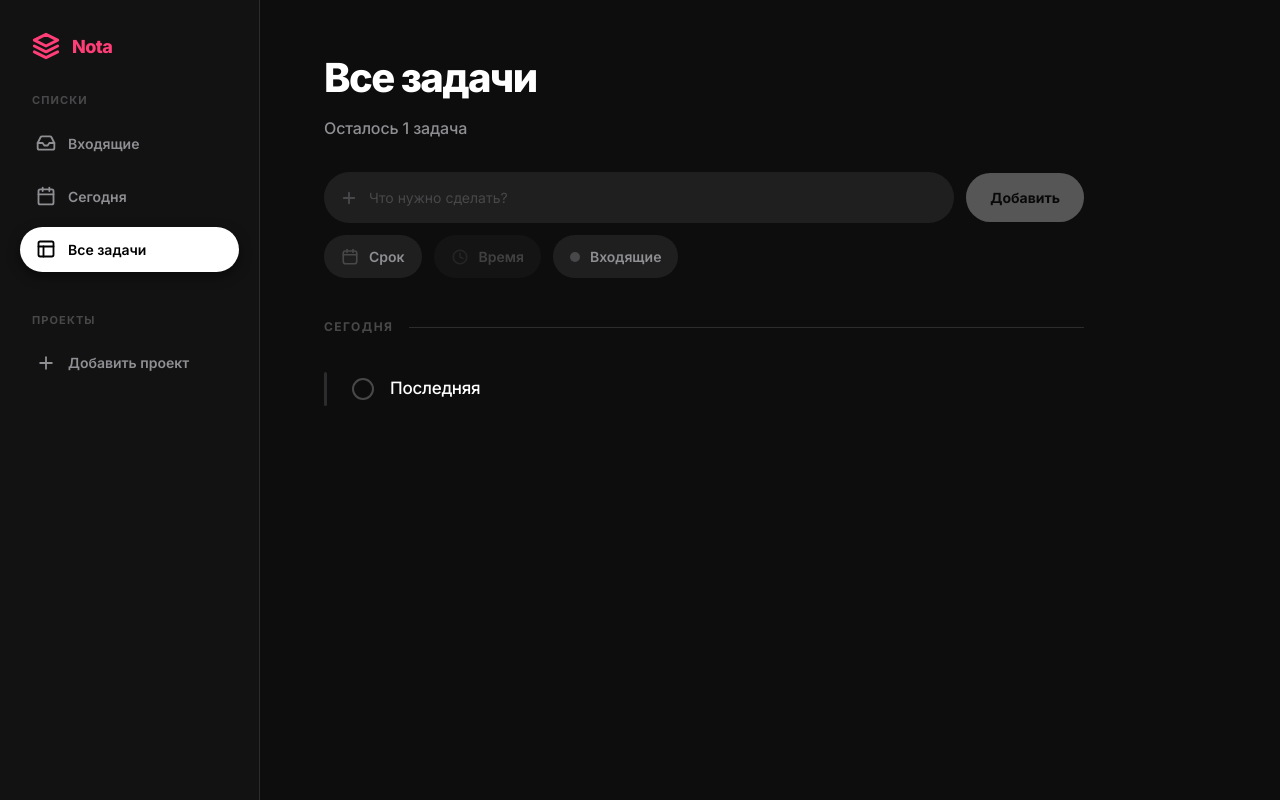
Scenario: лента задач › после отметки последней задачи лента пуста
The width and height of the screenshot is (1280, 800).
Click the checkbox named "Последняя": [363, 389] box [352, 378, 374, 400]
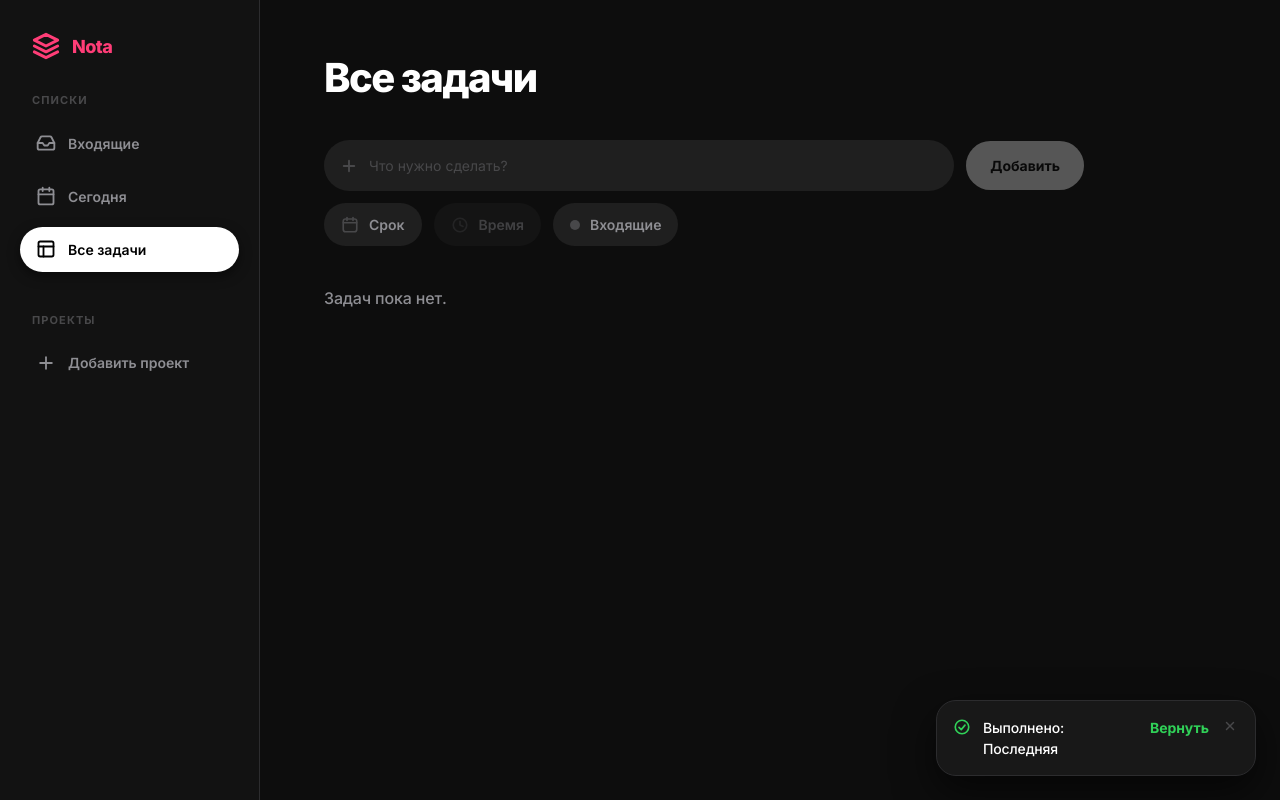
expect the text "Задач пока нет." is shown: met, box [324, 288, 447, 308]
expect the text "Осталось" is gone: met
